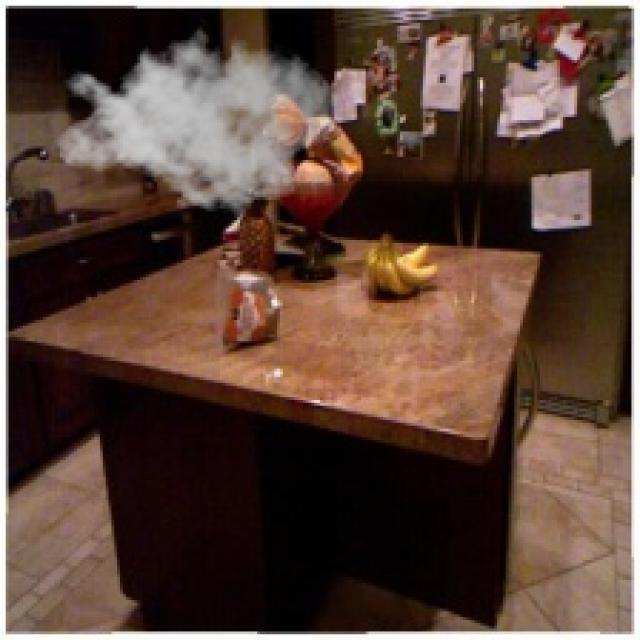Smoke: (54, 17, 337, 223)
